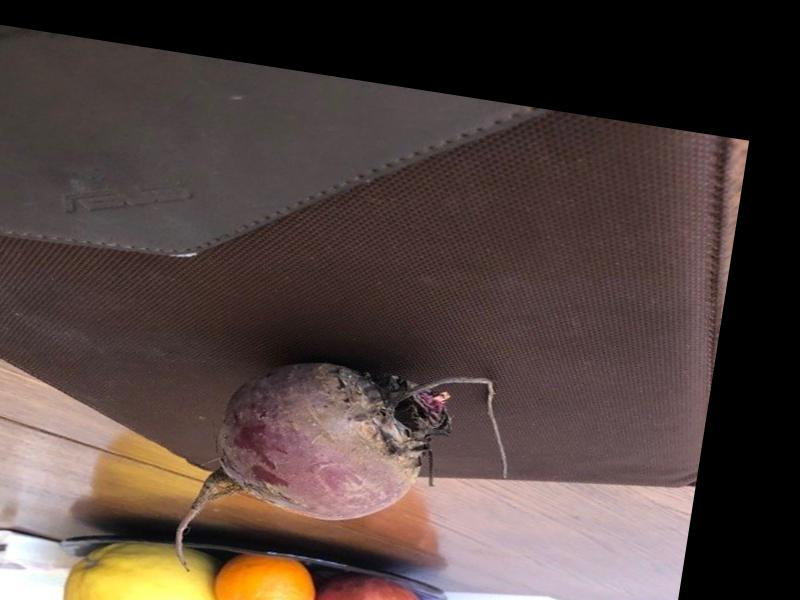Beet: (168, 334, 522, 600)
